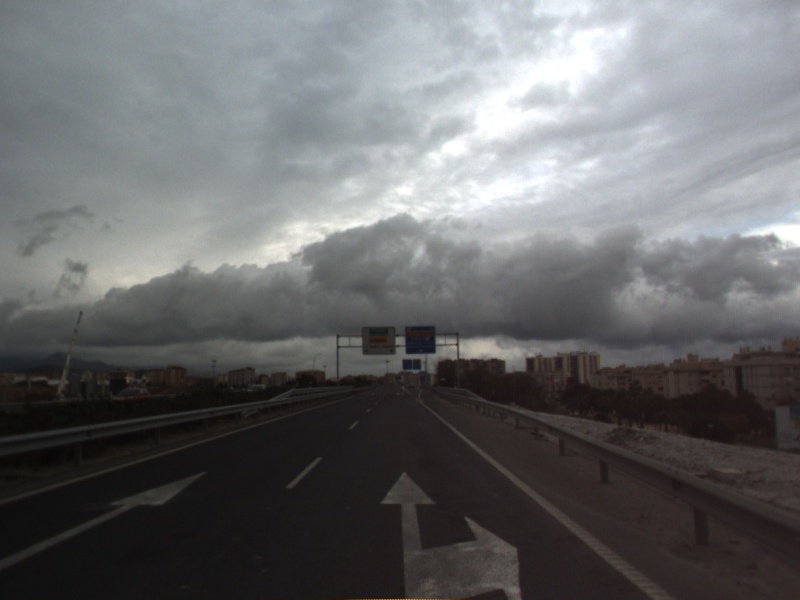STRAIGHT: (1, 467, 211, 570)
STRAIGHT_RIGHT: (377, 467, 524, 600)
